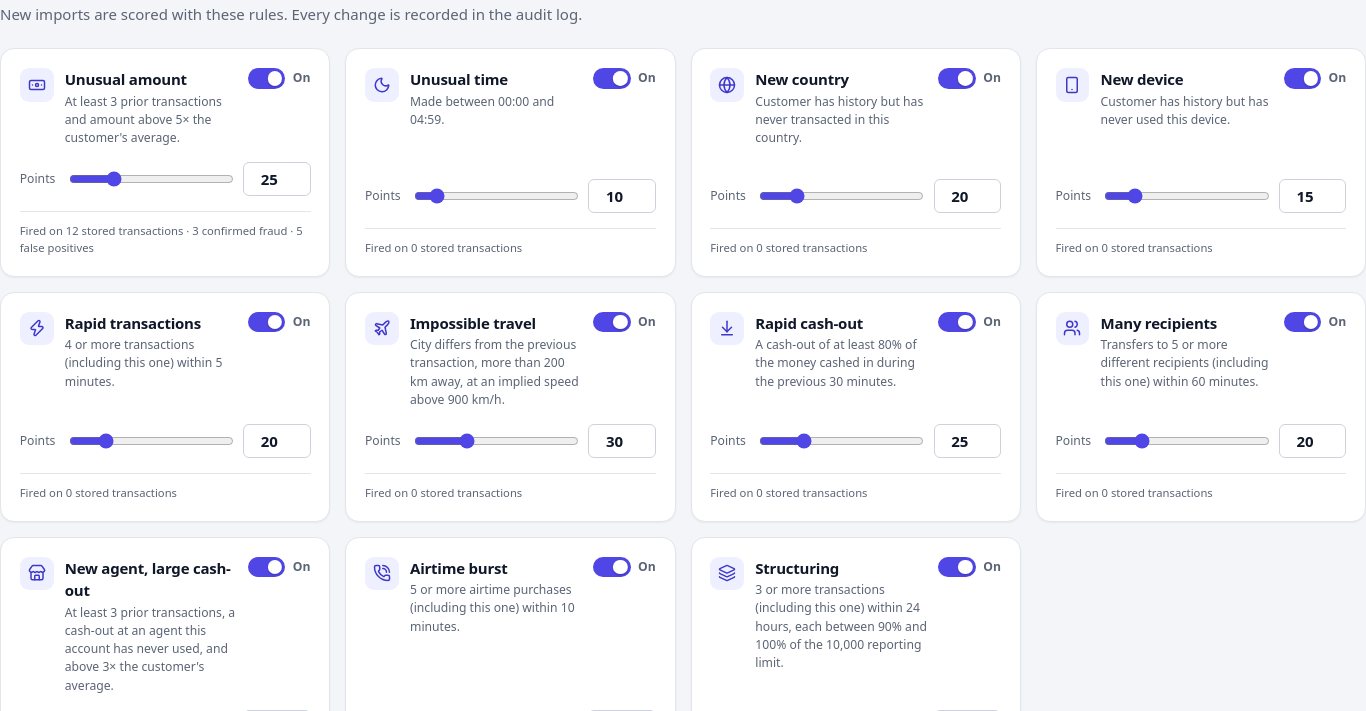
Scenario: Rules on stored data › lets an admin change rules, save them, and then re-score
The image size is (1366, 711).
Click the switch labelled "On" next to "Unusual amount" at (267, 78), box 248,68 -> 285,89
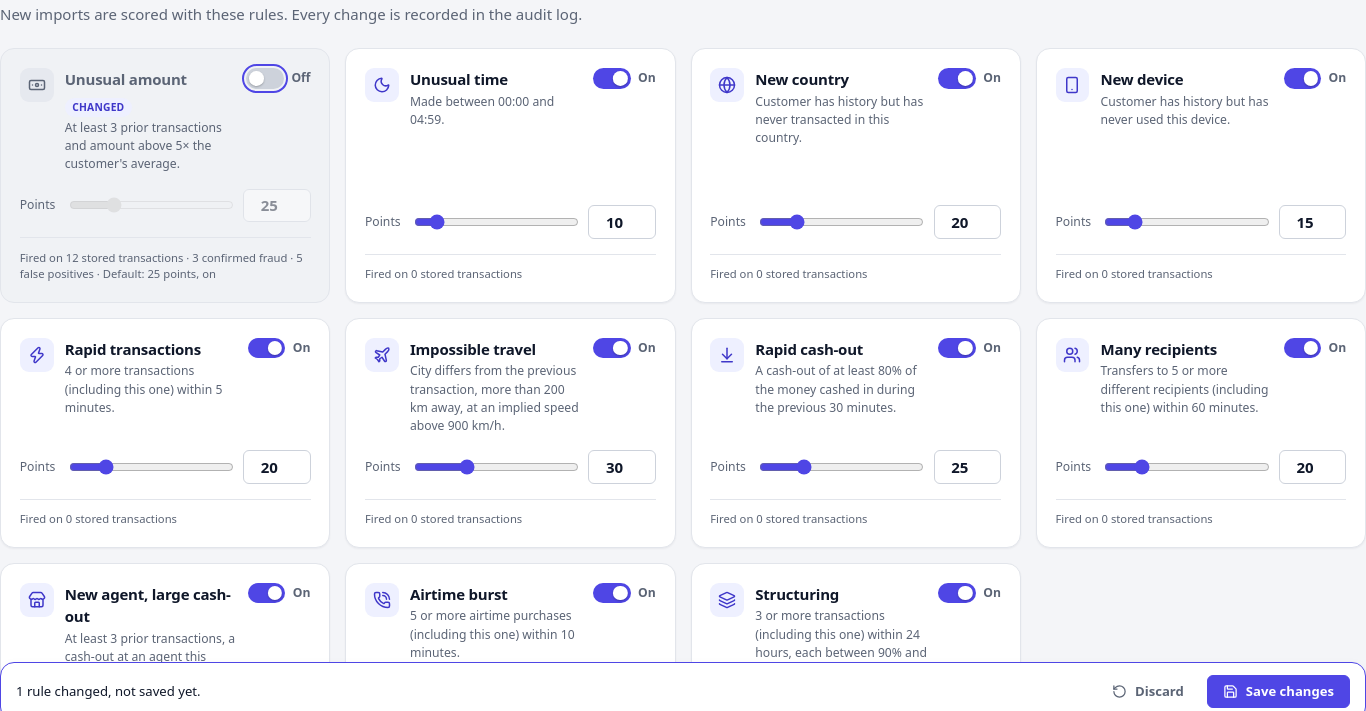
Replace the text in the number field labelled "Points" below "Made between 00:00 and 04:59" with "15" at (622, 222), box 588,206 -> 656,239
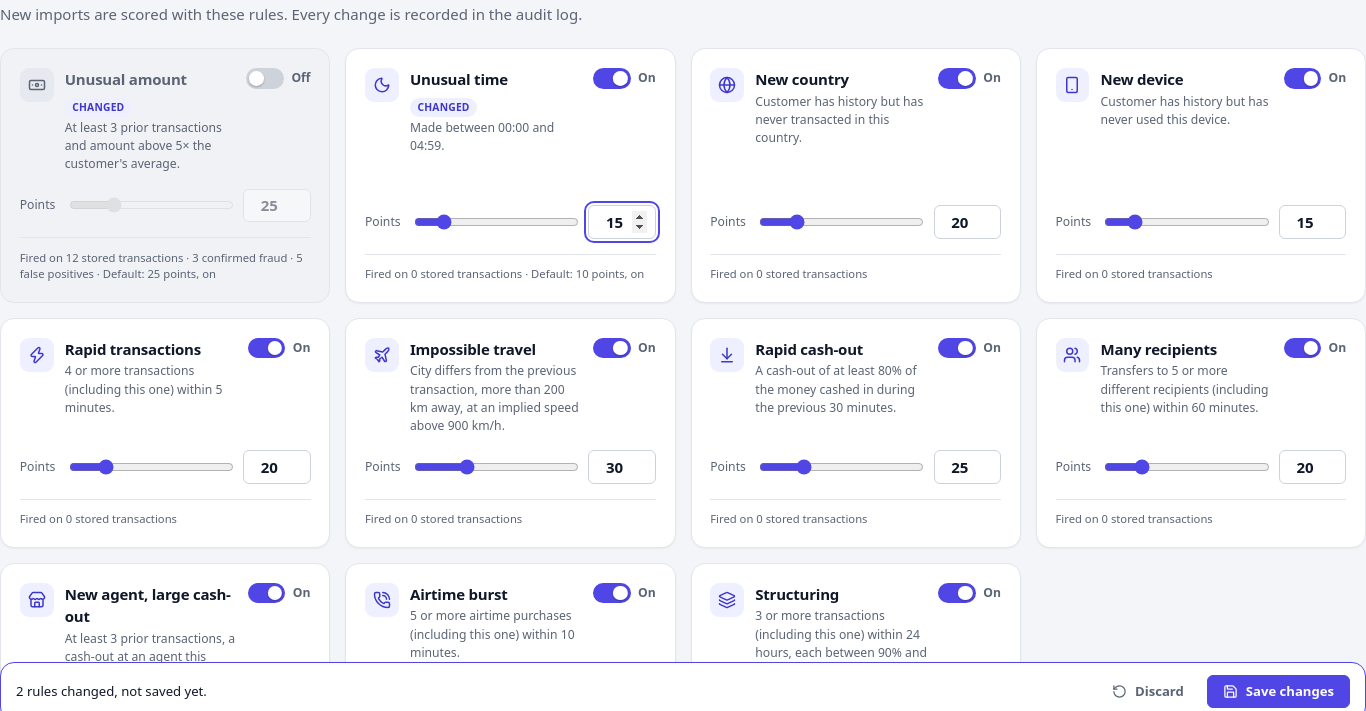
Now the text "2 rules changed, not saved yet." is shown, box 16,682 -> 207,702
Click the button "Save changes" at (1279, 692), box 1207,675 -> 1350,709
(page scrolled)
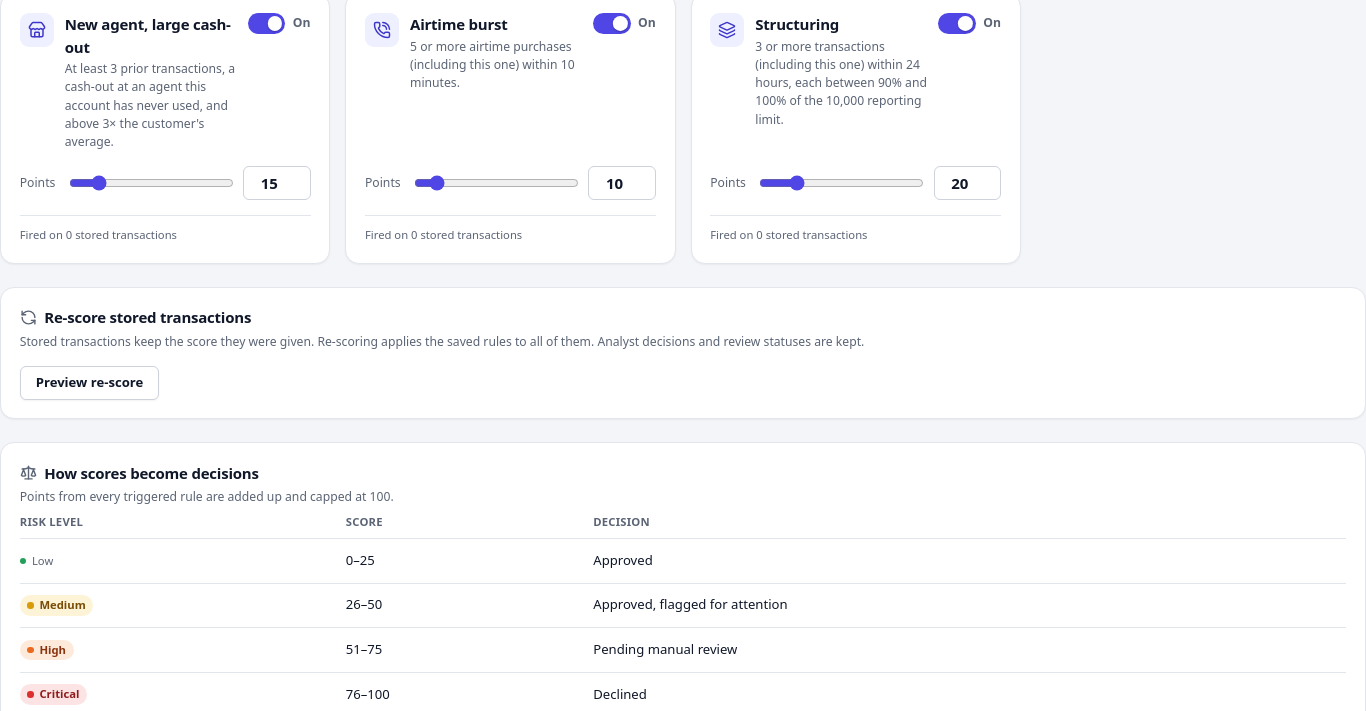
Click the button "Preview re-score" at (90, 383), box 20,366 -> 159,400
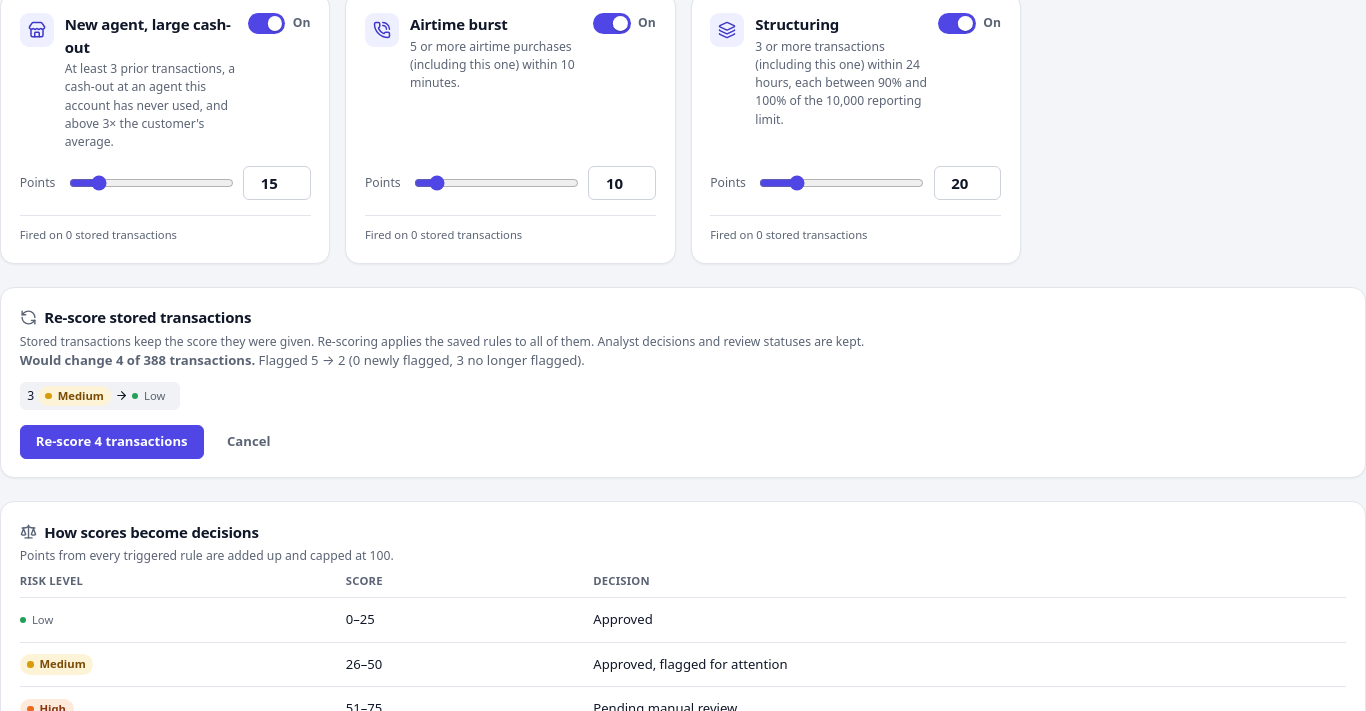
Now the text "Would change 4 of 388 transactions." is shown, box 20,351 -> 255,369
Now the text "Flagged 5 → 2" is shown, box 20,351 -> 585,369
Click the button "Re-score 4 transactions" at (112, 442), box 20,425 -> 204,459
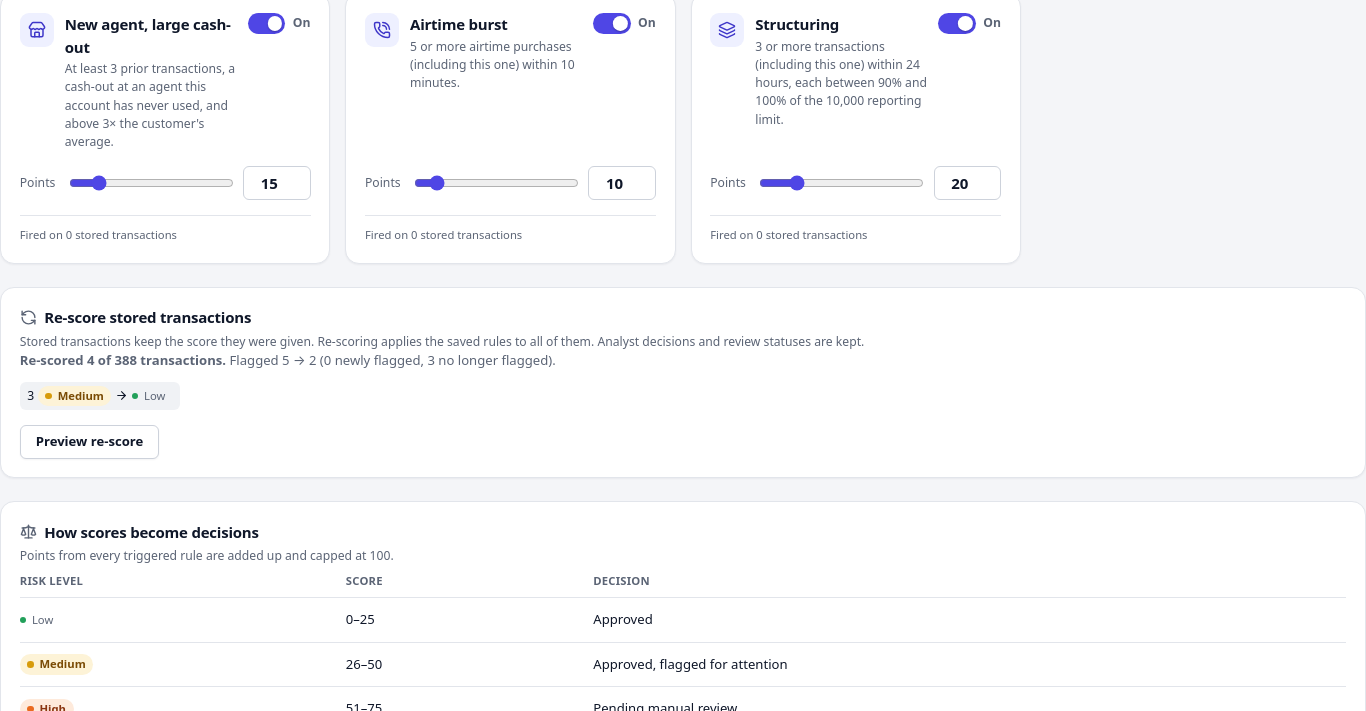
Now the text "Re-scored 4 of 388 transactions." is shown, box 20,351 -> 226,369
